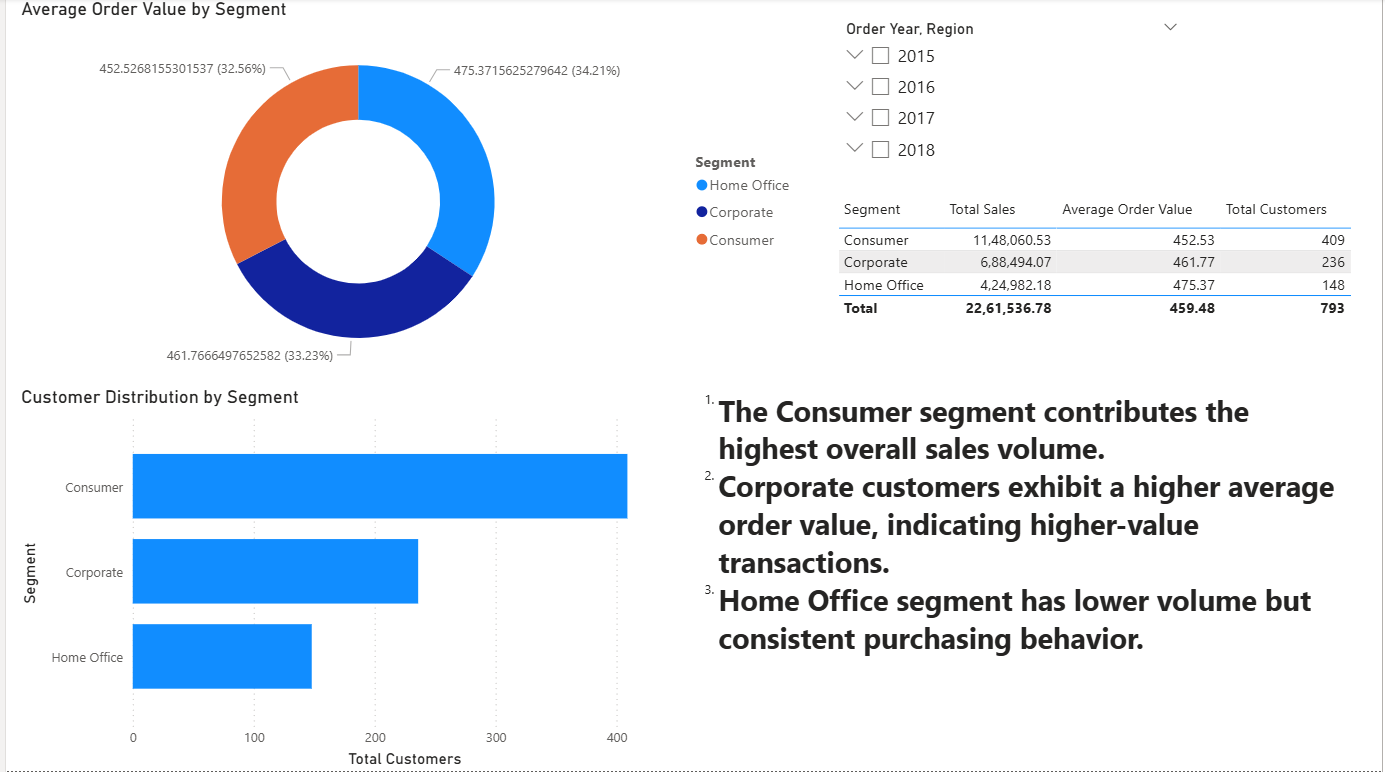

This screenshot's page, from the dashboard's own definition file:
{"tool":"powerbi","page":{"name":"Customer Segment Analysis","canvas":[1280,720],"ordinal":3},"visuals":[{"type":"donutChart","title":"Average Order Value by Segment","fields":{"Category":["train.Segment"],"Y":["train.Average Order Value"]},"box":[9.3,0,734,360],"z":0},{"type":"barChart","title":"Customer Distribution by Segment","fields":{"Category":["train.Segment"],"Y":["train.Total Customers"]},"box":[9.3,360,630.1,360],"z":1},{"type":"tableEx","fields":{"Values":["train.Segment","train.Total Sales","train.Average Order Value","train.Total Customers"]},"box":[768.2,180,498.2,180],"z":2},{"type":"slicer","fields":{"Values":["train.Order Year","train.Region"]},"box":[768.2,15.5,333.7,164.5],"z":3},{"type":"textbox","box":[639.4,360,602.1,305.7],"z":4}]}

Visuals, with their boxes in screenshot pixels (x1, y1, x2, y2), scaled from the page's 1280x720 canvas onto the 1385x772 screenshot:
"Average Order Value by Segment" donutChart: left=10, top=0, right=804, bottom=386
"Customer Distribution by Segment" barChart: left=10, top=386, right=692, bottom=771
tableEx - train.Segment x train.Total Sales: left=831, top=193, right=1370, bottom=386
slicer - train.Order Year x train.Region: left=831, top=17, right=1192, bottom=193
textbox: left=692, top=386, right=1343, bottom=714
